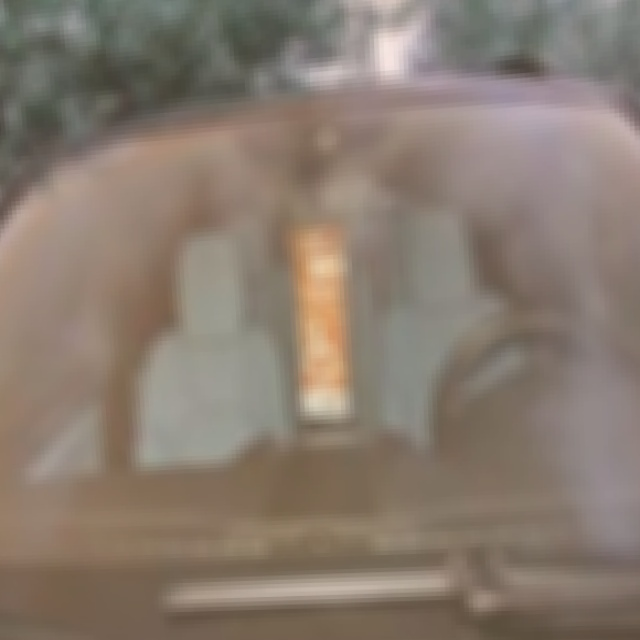ISA: (307, 320, 337, 379)
